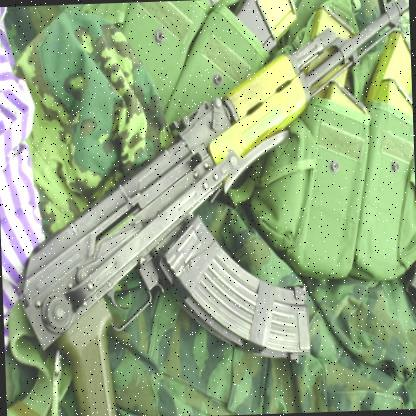rifle: (1, 0, 394, 416)
